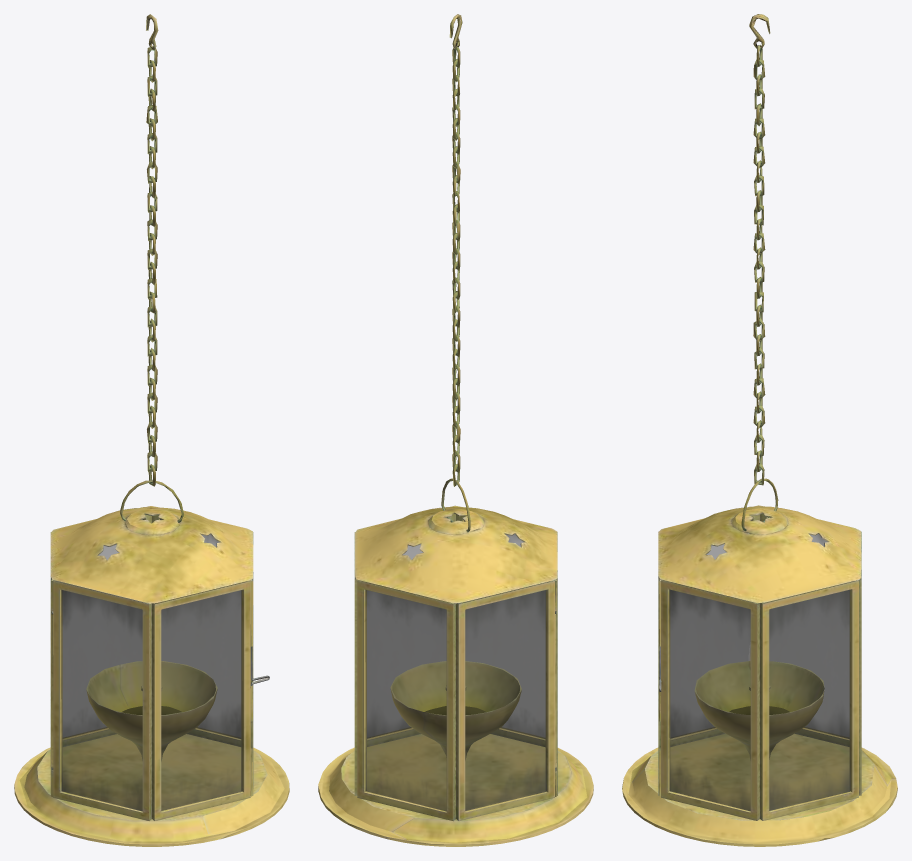
The model's file is brass_diya_lantern.glb.
The picture shows the model from 3 angles, left to right: view 1: azimuth 30°, elevation 25°; view 2: azimuth 150°, elevation 25°; view 3: azimuth 270°, elevation 25°; orthographic projection.
Visible parts, largest first — view 1: brass_diya_lantern, brass_diya_lantern_chain; view 2: brass_diya_lantern, brass_diya_lantern_chain; view 3: brass_diya_lantern, brass_diya_lantern_chain.
Part boxes in pixels (left/top/right/bottom): brass_diya_lantern: left=14, top=506, right=289, bottom=846; brass_diya_lantern_chain: left=146, top=14, right=158, bottom=486; brass_diya_lantern: left=318, top=505, right=593, bottom=846; brass_diya_lantern_chain: left=449, top=14, right=462, bottom=486; brass_diya_lantern: left=622, top=505, right=897, bottom=846; brass_diya_lantern_chain: left=749, top=14, right=770, bottom=485.
Bounding box in the file's own units: 0.123 × 0.3808 × 0.123.
3 materials, 3 textured.
